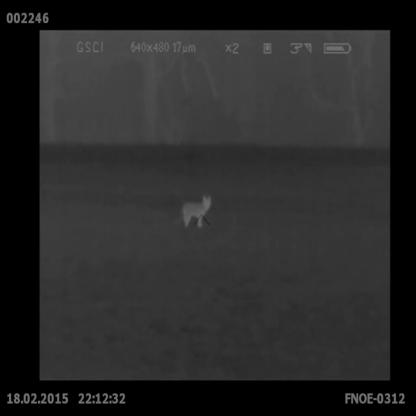rehkitze: (181, 194, 214, 231)
